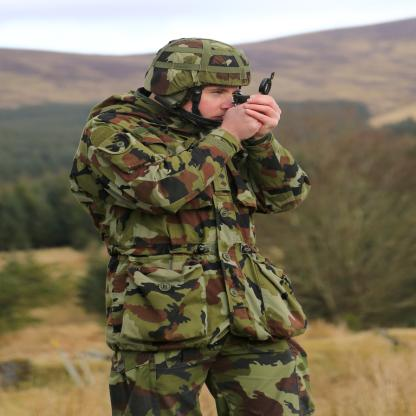Helmet: (147, 39, 257, 121)
